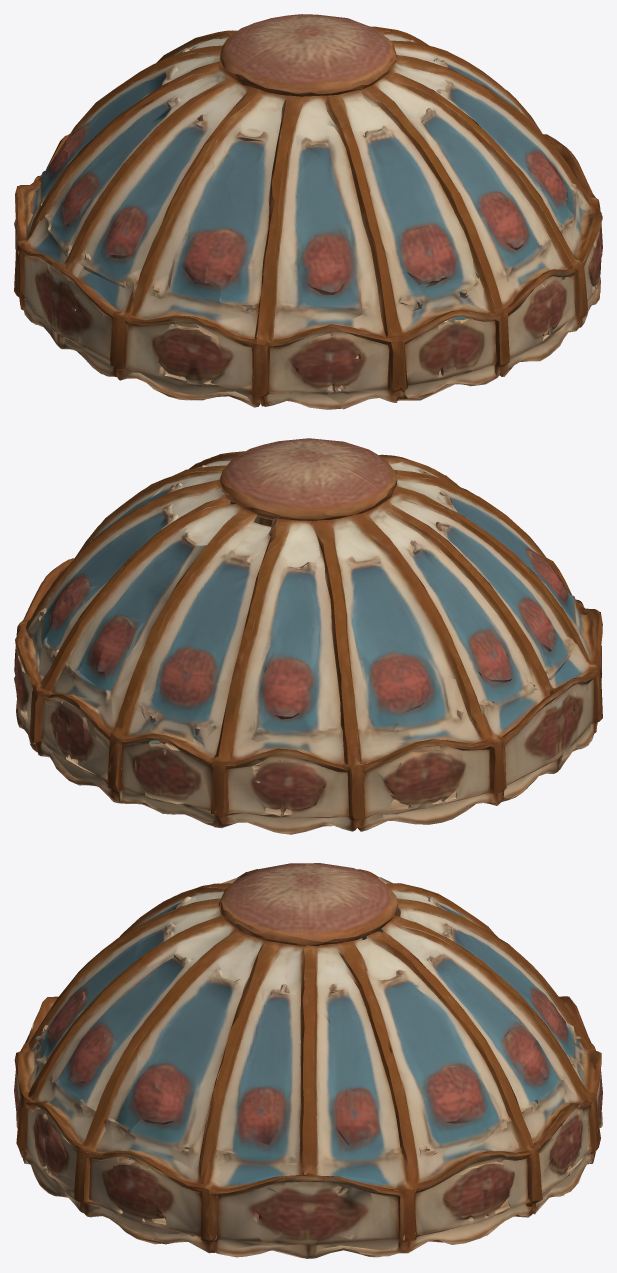
File: unified--swing-canopy.glb
3 views of the same model, one above another, from view 1: azimuth 30°, elevation 25°; view 2: azimuth 150°, elevation 25°; view 3: azimuth 270°, elevation 25° (orthographic).
Parts seen in each view (by area): view 1: swing-canopy-1; view 2: swing-canopy-1; view 3: swing-canopy-1.
Boxes of the visible parts, left/top/right/bottom form: swing-canopy-1: left=14, top=14, right=602, bottom=409; swing-canopy-1: left=14, top=438, right=602, bottom=834; swing-canopy-1: left=14, top=863, right=602, bottom=1258.
Size of the model in its own units: 0.6001 by 0.3436 by 0.5992.
1 material, 1 textured.
